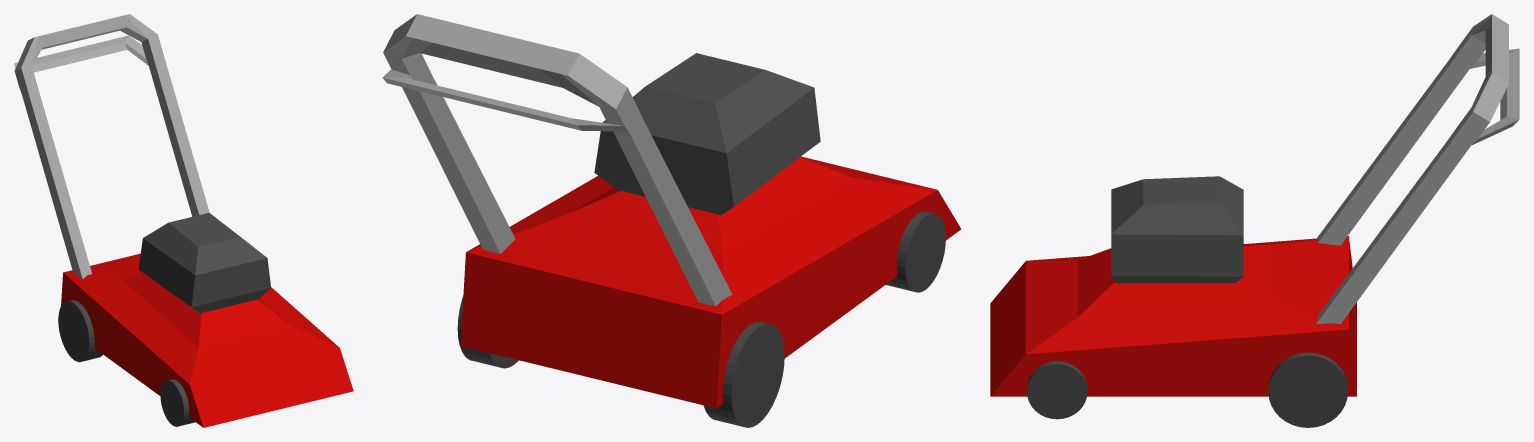
Rendered from LawnMower.to g3dj.fbx.
3 renders of one model, left to right at view 1: azimuth 30°, elevation 25°; view 2: azimuth 150°, elevation 25°; view 3: azimuth 270°, elevation 25°, orthographic. The views are drawn at different scales.
Visible parts, largest first — view 1: Chassis, Handle, Engine, Wheels; view 2: Chassis, Handle, Engine, Wheels; view 3: Chassis, Handle, Engine, Wheels.
Part boxes in pixels (x1=…): Chassis: x1=61, y1=253, x2=353, y2=427; Handle: x1=14, y1=14, x2=209, y2=279; Engine: x1=138, y1=212, x2=271, y2=313; Wheels: x1=58, y1=300, x2=195, y2=426; Chassis: x1=460, y1=156, x2=961, y2=408; Handle: x1=382, y1=14, x2=732, y2=306; Engine: x1=594, y1=53, x2=820, y2=215; Wheels: x1=457, y1=211, x2=945, y2=427; Chassis: x1=990, y1=236, x2=1356, y2=396; Handle: x1=1316, y1=14, x2=1519, y2=324; Engine: x1=1111, y1=176, x2=1243, y2=283; Wheels: x1=1027, y1=352, x2=1347, y2=427.
Bounding box in the file's own units: 0.5134 × 0.8009 × 1.15.
